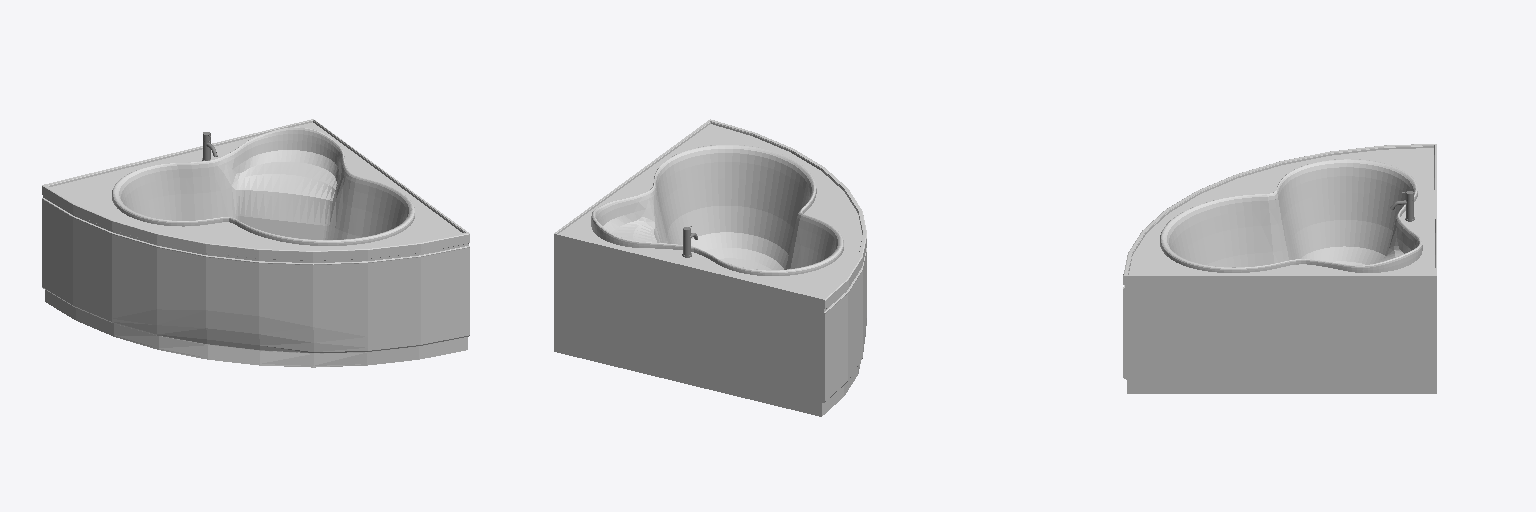
The model's file is corner_bathtub.obj.
3 views of the same model, side by side, from view 1: azimuth 30°, elevation 25°; view 2: azimuth 150°, elevation 25°; view 3: azimuth 270°, elevation 25° (orthographic).
Visible parts, largest first — view 1: base_Plane, bath_Circle, surfice_Circle.001; view 2: base_Plane, bath_Circle, surfice_Circle.001; view 3: base_Plane, bath_Circle, surfice_Circle.001.
Part boxes in pixels (left/top/right/bottom): base_Plane: left=42, top=119, right=469, bottom=367; bath_Circle: left=112, top=127, right=414, bottom=245; surfice_Circle.001: left=51, top=122, right=461, bottom=249; base_Plane: left=554, top=119, right=866, bottom=416; bath_Circle: left=591, top=145, right=843, bottom=275; surfice_Circle.001: left=558, top=124, right=862, bottom=297; base_Plane: left=1123, top=144, right=1436, bottom=393; bath_Circle: left=1160, top=159, right=1422, bottom=272; surfice_Circle.001: left=1129, top=148, right=1435, bottom=274.
Bounding box in the file's own units: 160 × 80.31 × 160.